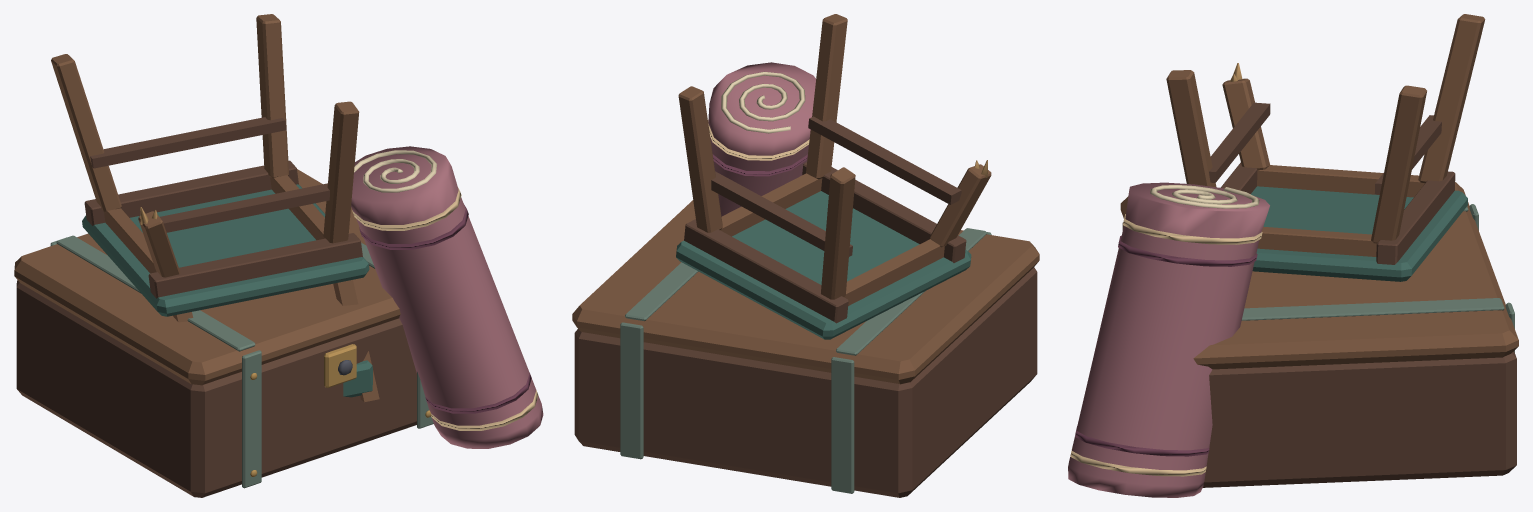
Rendered from junk_2.glb.
3 renders of one model, left to right at view 1: azimuth 30°, elevation 25°; view 2: azimuth 150°, elevation 25°; view 3: azimuth 270°, elevation 25°, orthographic. The views are drawn at different scales.
Parts seen in each view (by area): view 1: junk_2; view 2: junk_2; view 3: junk_2.
Part boxes in pixels (box(x1,y1,x2,y2)): junk_2: box(14, 14, 543, 497); junk_2: box(572, 14, 1039, 497); junk_2: box(1068, 14, 1518, 497).
Bounding box in the file's own units: 0.85 × 0.75 × 0.85.
